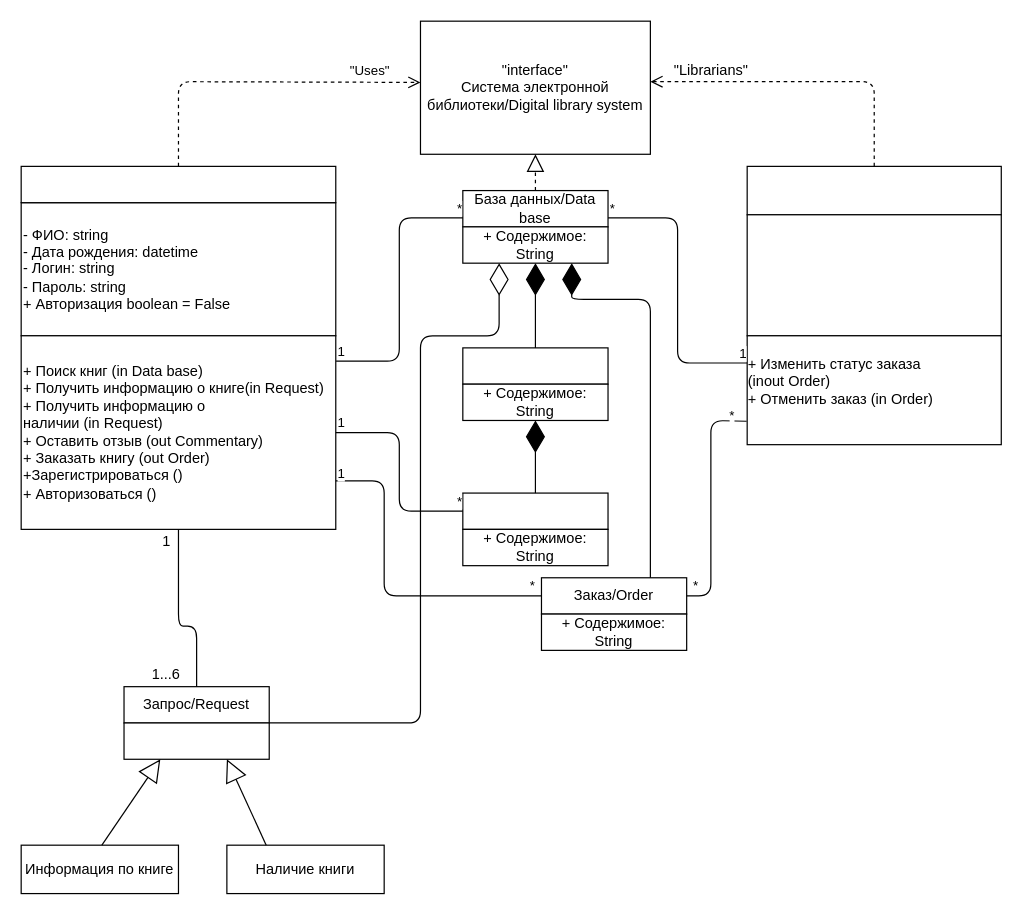
The diagram is 1022 pixels wide and 915 high, and some of its shapes have lost their labels. The shapes that lost their labels are listed below. From the top down, each one's box as (x1, y1, x2, y2) in pixels, then its label:
(20, 165, 336, 203): Читатель/Reader
(746, 165, 1001, 215): Библиотекарь/Librarian
(746, 214, 1001, 336): - ФИО: String - Логин: string - Пароль: string
(462, 347, 608, 384): Книга/Book
(462, 492, 608, 529): Отзыв/Commentary
(123, 722, 269, 759): + Заголовок: String
